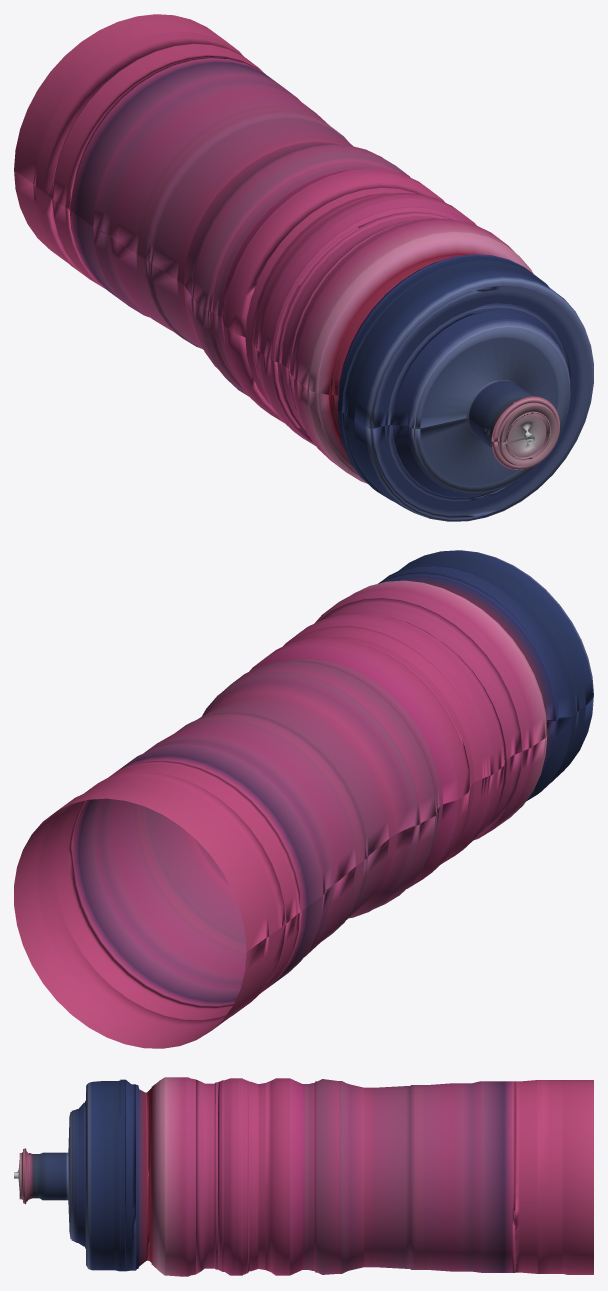
3 views of the same model, one above another, from view 1: azimuth 30°, elevation 25°; view 2: azimuth 150°, elevation 25°; view 3: azimuth 270°, elevation 25° (orthographic). The views are drawn at different scales.
Size of the model in its own units: 180 by 180 by 523.
